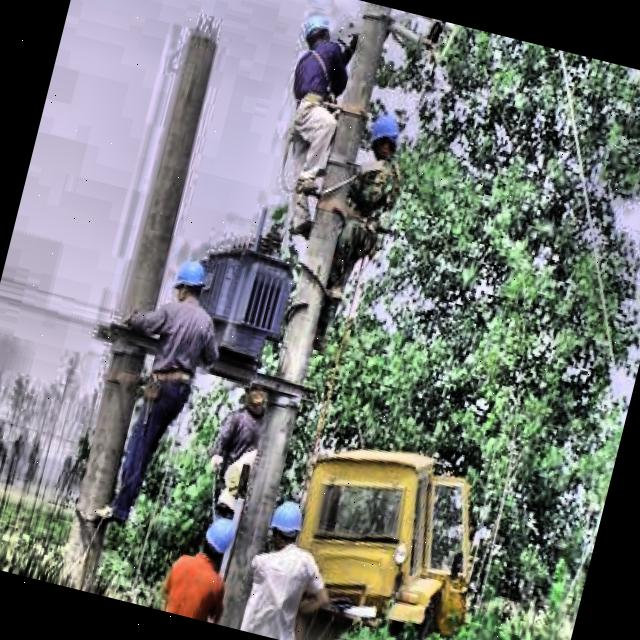helmet: (263, 494, 309, 562), (164, 252, 214, 312), (195, 512, 242, 572), (360, 113, 404, 167), (296, 13, 336, 62)
